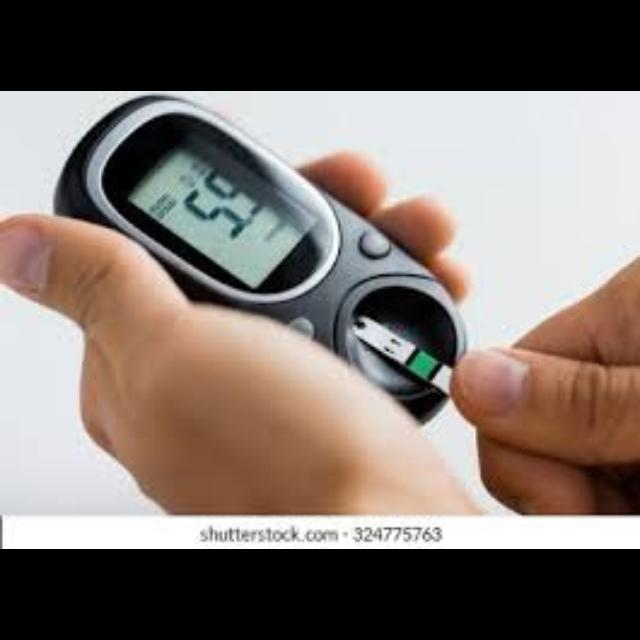Glucose-Meter: (56, 100, 465, 420)
